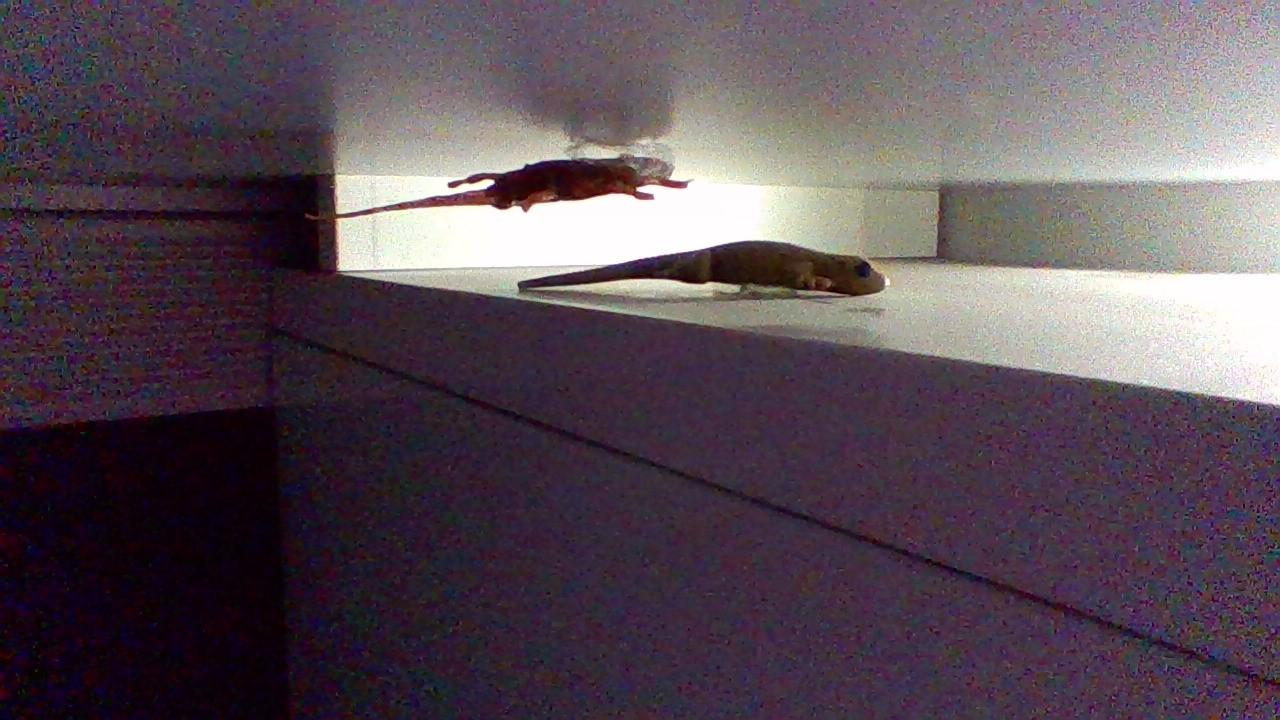lizard: (499, 236, 935, 375), (291, 145, 712, 226)
